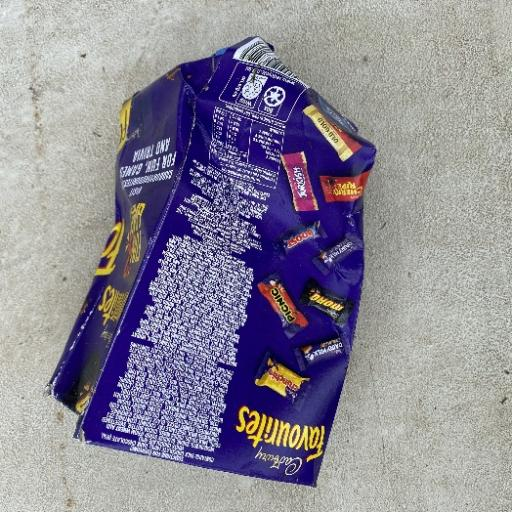Cardboard: (49, 35, 377, 489)
